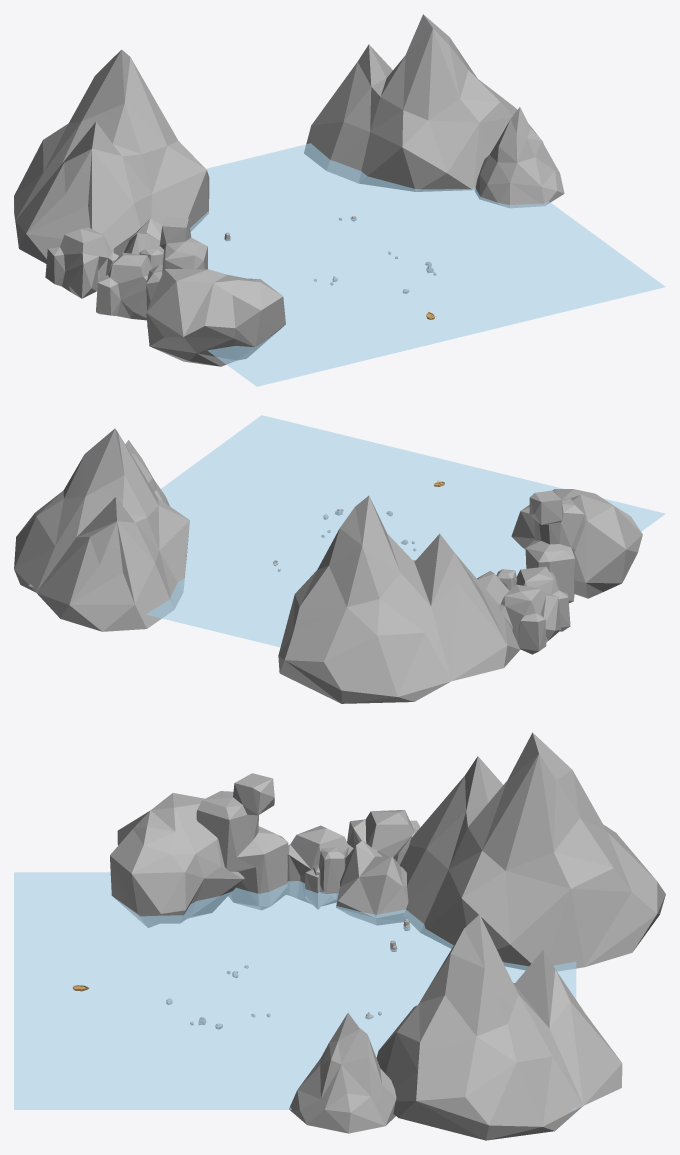
The model's file is environment.gltf.
The picture shows the model from 3 angles, top to bottom: view 1: azimuth 30°, elevation 25°; view 2: azimuth 150°, elevation 25°; view 3: azimuth 270°, elevation 25°; orthographic projection. The views are drawn at different scales.
Parts seen in each view (by area): view 1: Water, Rock10 (×2), Rock9, Rock12, Rock5, Rock5 (1), Rock6, Rock2; view 2: Rock10 (×2), Water, Rock9, Rock6, Rock5, Rock5 (1), Rock2, Rock12; view 3: Water, Rock10 (×2), Rock9, Rock12, Rock6, Rock2, Rock5 (1), Rock5, Rock4.
Part boxes in pixels (box(x1,y1,x2,y2)): Water: box(190, 143, 665, 386); Rock10 (×2): box(14, 14, 517, 263); Rock9: box(146, 269, 285, 366); Rock12: box(475, 107, 564, 207); Rock5: box(45, 227, 118, 298); Rock5 (1): box(96, 252, 152, 320); Rock6: box(146, 215, 207, 326); Rock2: box(113, 219, 163, 256); Rock10 (×2): box(14, 428, 520, 703); Water: box(29, 415, 665, 646); Rock9: box(511, 489, 642, 598); Rock6: box(525, 490, 584, 603); Rock5: box(498, 584, 560, 654); Rock5 (1): box(516, 566, 570, 631); Rock2: box(477, 571, 508, 604); Rock12: box(125, 440, 169, 505); Water: box(14, 872, 576, 1109); Rock10 (×2): box(376, 732, 665, 1140); Rock9: box(110, 793, 244, 927); Rock12: box(289, 1013, 396, 1133); Rock6: box(196, 773, 288, 909); Rock2: box(336, 840, 408, 925); Rock5 (1): box(286, 825, 353, 909); Rock5: box(347, 810, 420, 864); Rock4: box(313, 847, 345, 893).
Size of the model in its own units: 1.22 by 0.4446 by 1.16.
